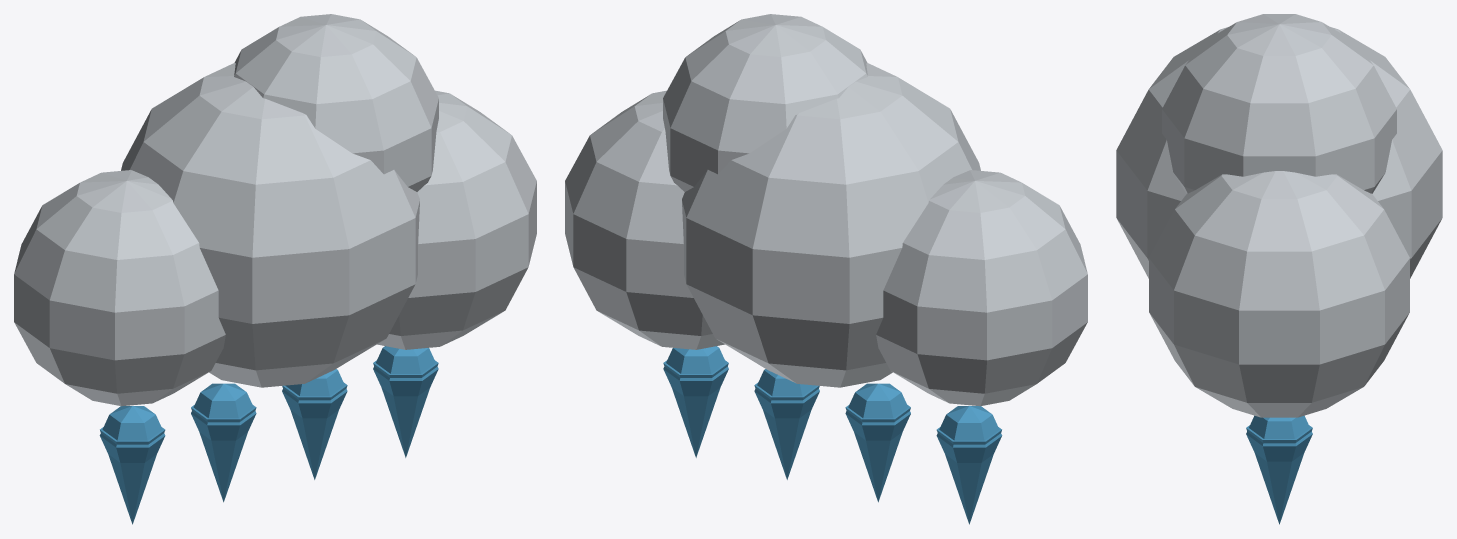
The model's file is lure-rain.glb.
3 renders of one model, left to right at view 1: azimuth 30°, elevation 25°; view 2: azimuth 150°, elevation 25°; view 3: azimuth 270°, elevation 25°, orthographic.
Parts seen in each view (by area): view 1: lure-rain; view 2: lure-rain; view 3: lure-rain.
Boxes of the visible parts, x1,y1,x2,y2 form: lure-rain: [14, 14, 536, 524]; lure-rain: [565, 14, 1087, 524]; lure-rain: [1116, 14, 1442, 524].
Size of the model in its own units: 0.8523 by 0.76 by 0.4875.
